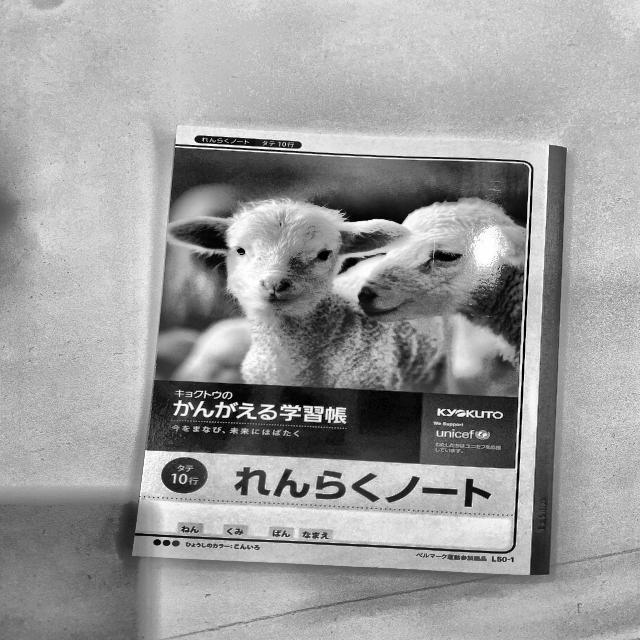Notebook: (124, 104, 571, 590)
